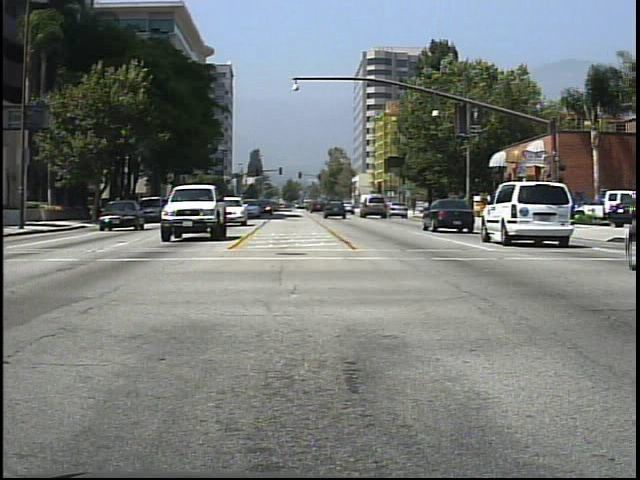person: (504, 191, 523, 230), (461, 191, 478, 226)
